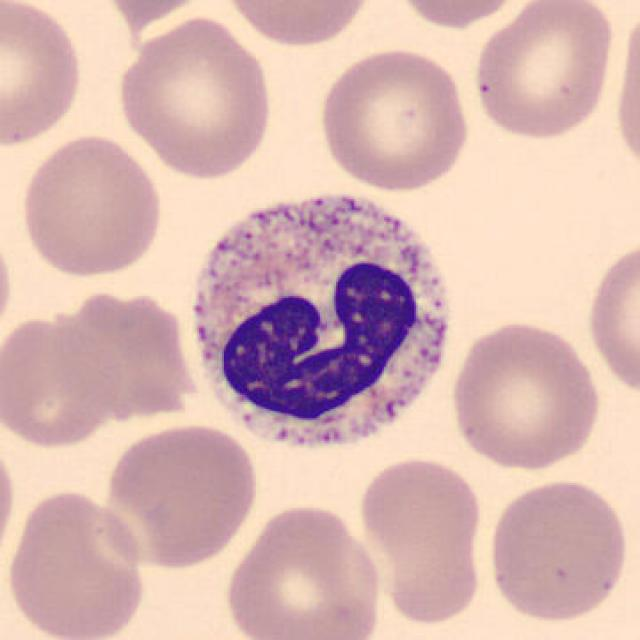Neutrophil: (178, 175, 469, 474)
RBC: (112, 12, 277, 182), (446, 316, 604, 474), (100, 420, 262, 571), (313, 42, 473, 194), (220, 499, 386, 640), (1, 486, 151, 640), (16, 130, 167, 280), (482, 474, 631, 626), (469, 0, 619, 143), (54, 290, 196, 427), (0, 308, 123, 452), (356, 453, 486, 578), (0, 0, 87, 152), (581, 233, 640, 402), (217, 0, 379, 49), (610, 0, 640, 182), (386, 0, 533, 32), (92, 0, 218, 25), (0, 428, 20, 573), (0, 217, 18, 351)
